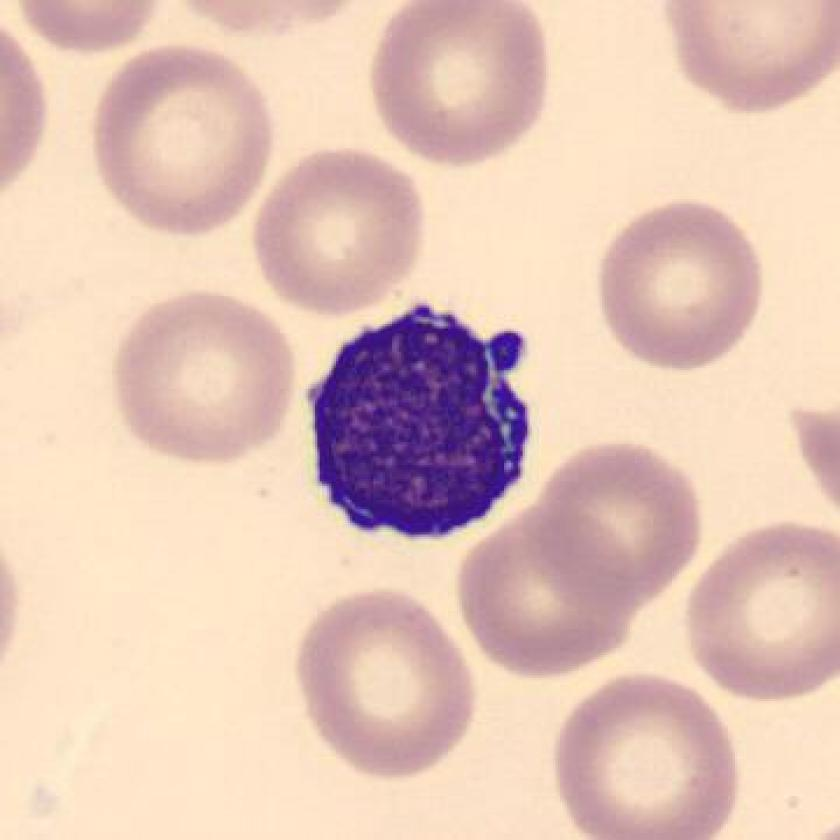lymphocyte: (295, 276, 556, 561)
